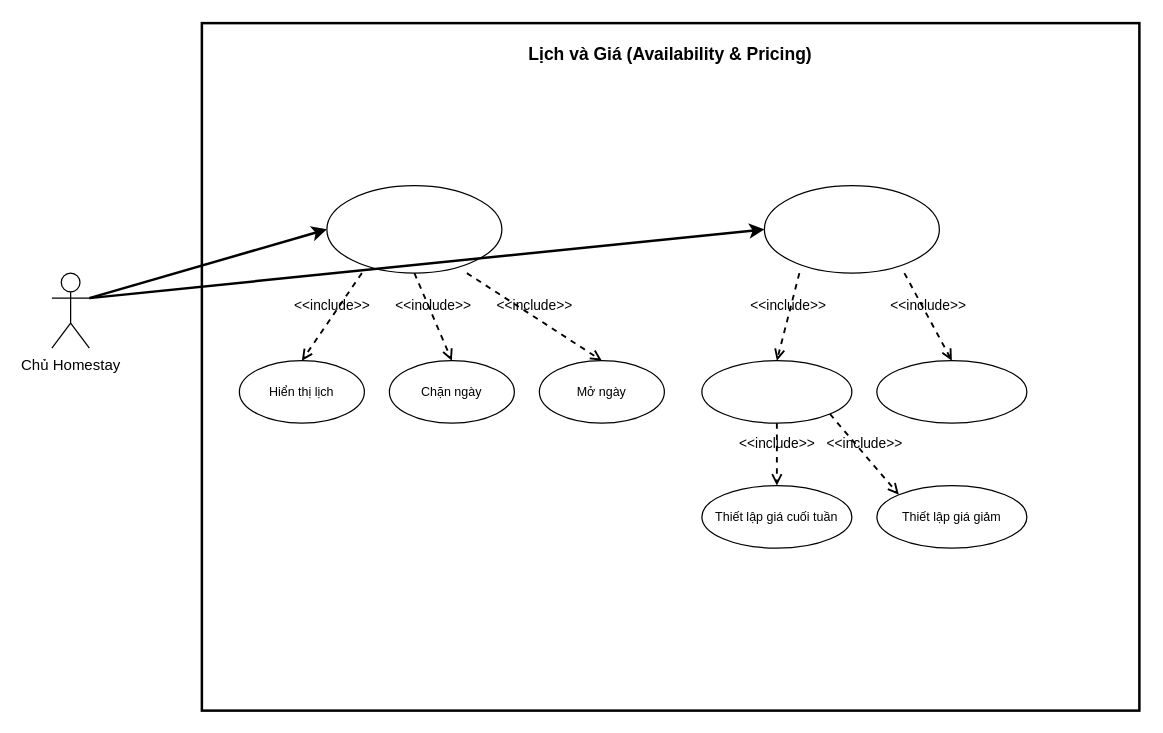
The diagram is 1163 pixels wide and 733 high, and some of its shapes have lost their labels. Here are the shapes that lost their labels. From the top down, the box of each, then its label:
(326, 184, 502, 273): Quản lý lịch trống
(763, 184, 939, 273): Thiết lập giá linh hoạt
(701, 359, 852, 423): Cấu hình nhiều quy tắc giá
(876, 359, 1027, 423): Thiết lập giá theo mùa
